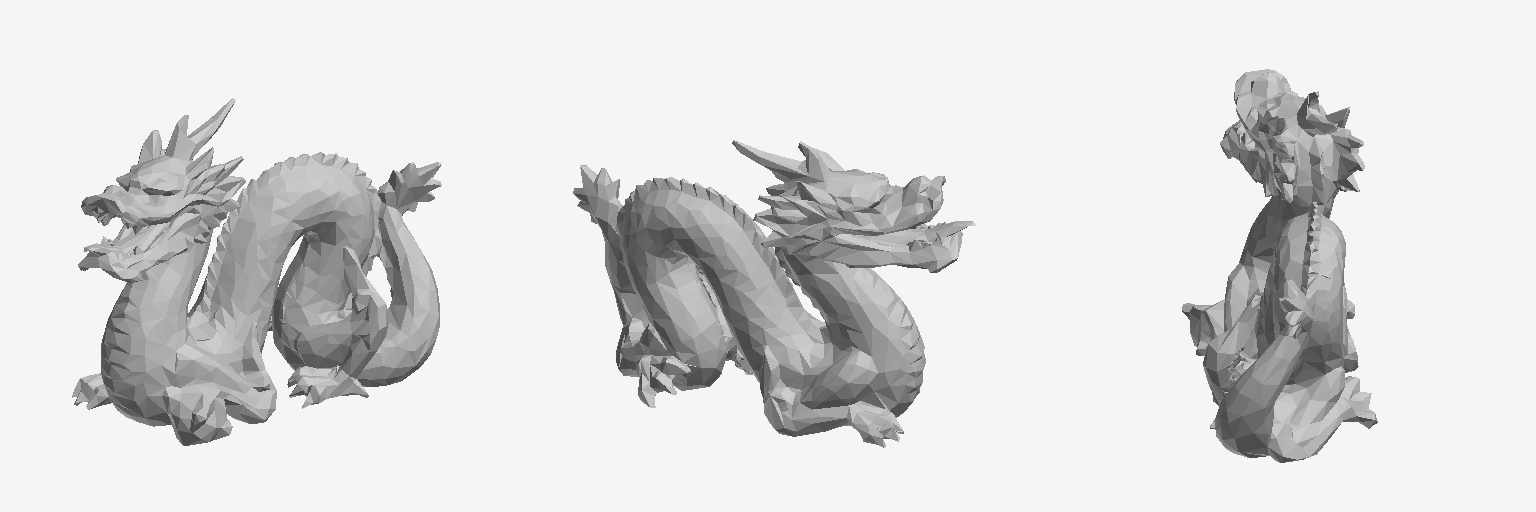
File: StanfordDragon_low.obj
3 views of the same model, side by side, from view 1: azimuth 30°, elevation 25°; view 2: azimuth 150°, elevation 25°; view 3: azimuth 270°, elevation 25° (orthographic).
Parts seen in each view (by area): view 1: default; view 2: default; view 3: default.
Boxes of the visible parts, x1,y1,x2,y2 form: default: [72, 98, 441, 445]; default: [573, 140, 975, 447]; default: [1182, 69, 1377, 462].
Bounding box in the file's own units: 14.11 × 9.96 × 6.31.